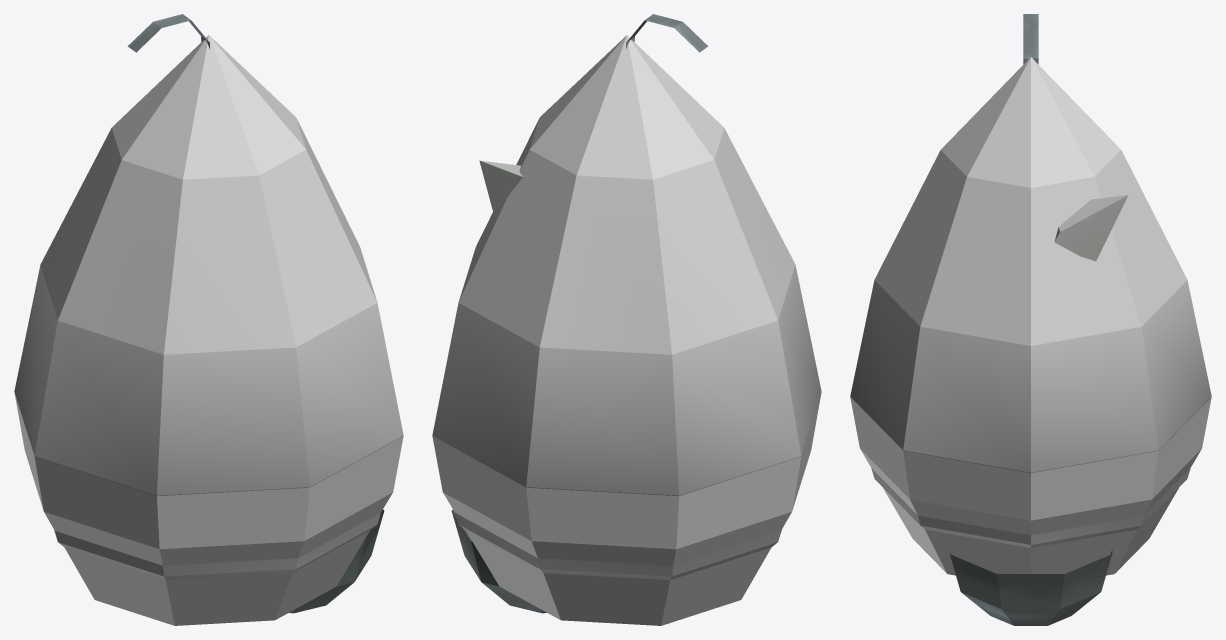
Rendered from B_PickUps.fbx.
3 renders of one model, left to right at view 1: azimuth 30°, elevation 25°; view 2: azimuth 150°, elevation 25°; view 3: azimuth 270°, elevation 25°, orthographic. The views are drawn at different scales.
Parts seen in each view (by area): view 1: Fuel, Ingrediants, Tool; view 2: Fuel, Ingrediants, Tool; view 3: Fuel, Ingrediants, Tool.
Boxes of the visible parts, x1,y1,x2,y2 form: Fuel: [14, 35, 403, 580]; Ingrediants: [14, 392, 403, 625]; Tool: [127, 14, 384, 613]; Fuel: [432, 35, 821, 580]; Ingrediants: [432, 160, 821, 625]; Tool: [451, 14, 708, 613]; Fuel: [850, 57, 1211, 547]; Ingrediants: [850, 195, 1211, 575]; Tool: [949, 14, 1112, 625].
Bounding box in the file's own units: 200 × 335 × 200.
